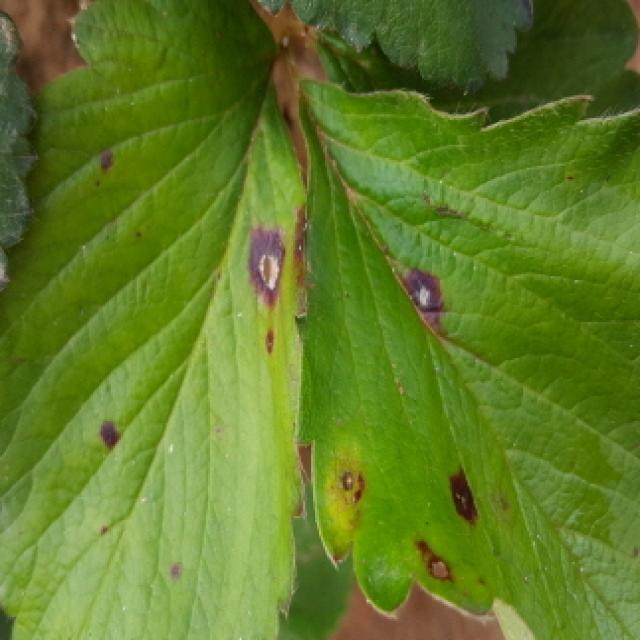Leaf Spot: (0, 0, 307, 640), (292, 77, 640, 640), (295, 0, 535, 93)
